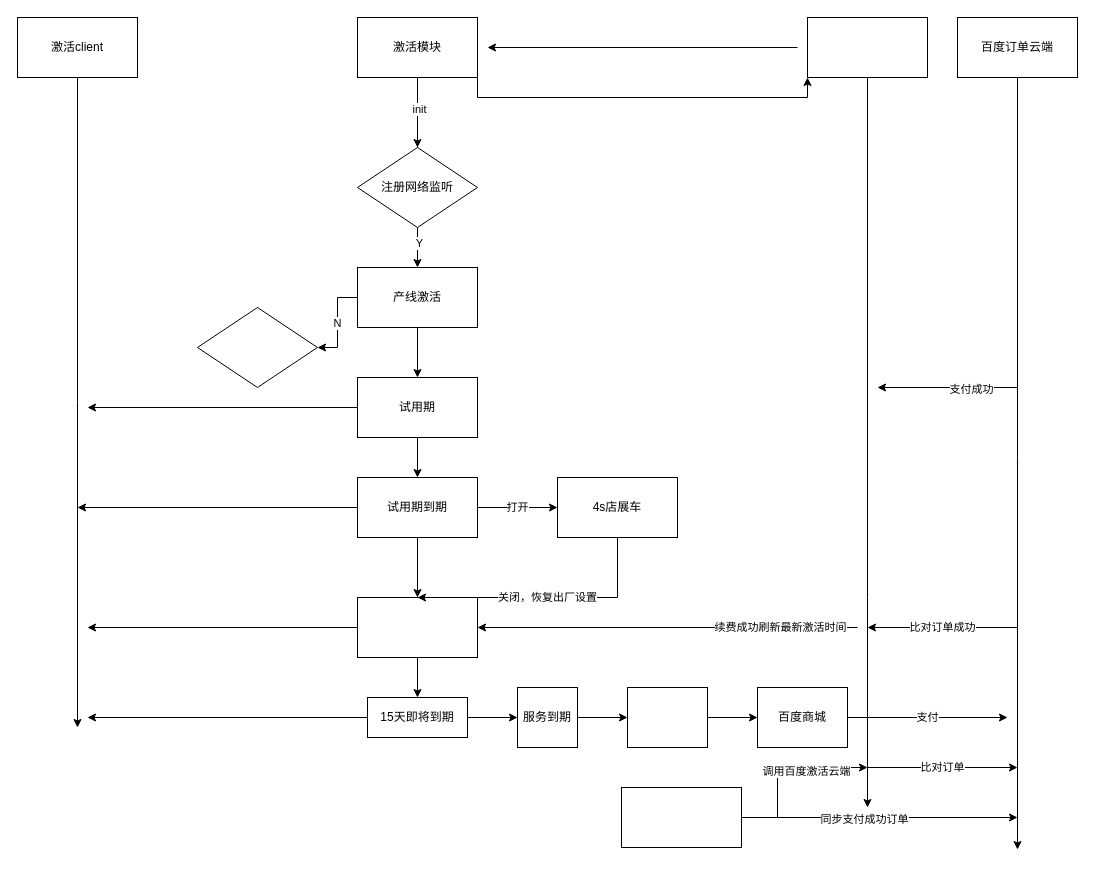
Image size: 1095x875. Some labels were removed from this diagram. Here are the shapes that lost their labels. From the top down, the box of each, then its label:
(806, 16, 928, 78): 百度激活云端
(196, 306, 318, 388): retry 3 times
(356, 596, 478, 658): 用户激活
(626, 686, 708, 748): 用户续费
(620, 786, 742, 848): 丰田商城
